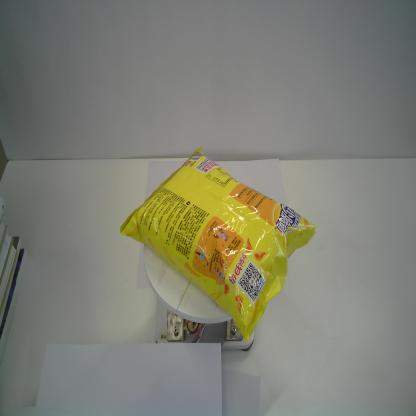Puffed Food: (119, 144, 317, 343)
